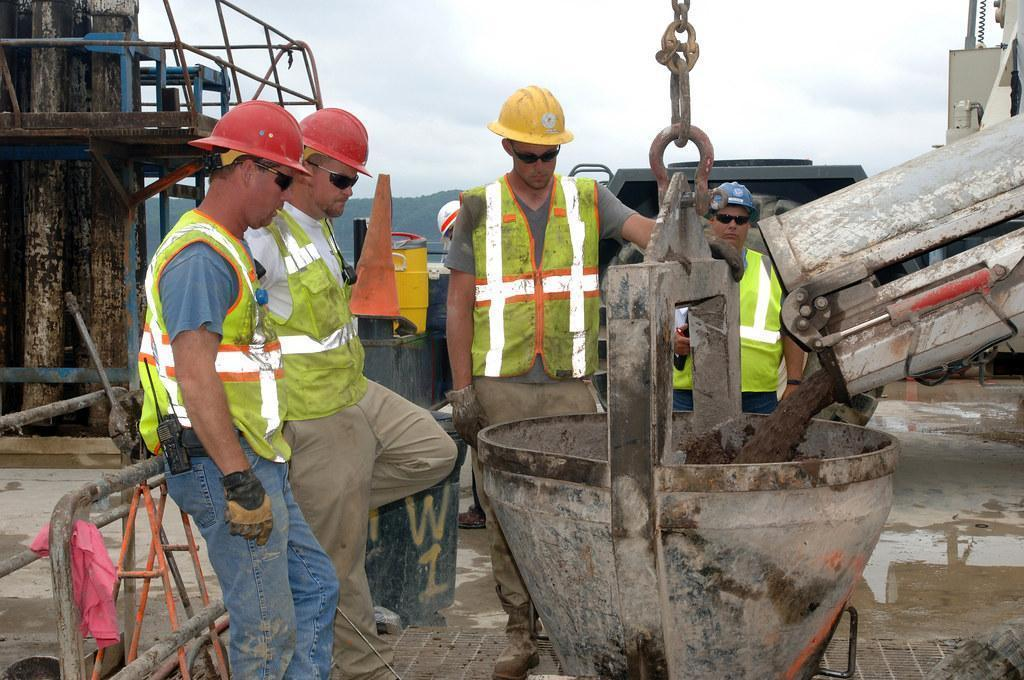Boots: (185, 91, 310, 177), (291, 101, 384, 181), (487, 78, 580, 149), (707, 178, 764, 223)
Glass: (436, 170, 619, 393), (144, 207, 272, 463)
